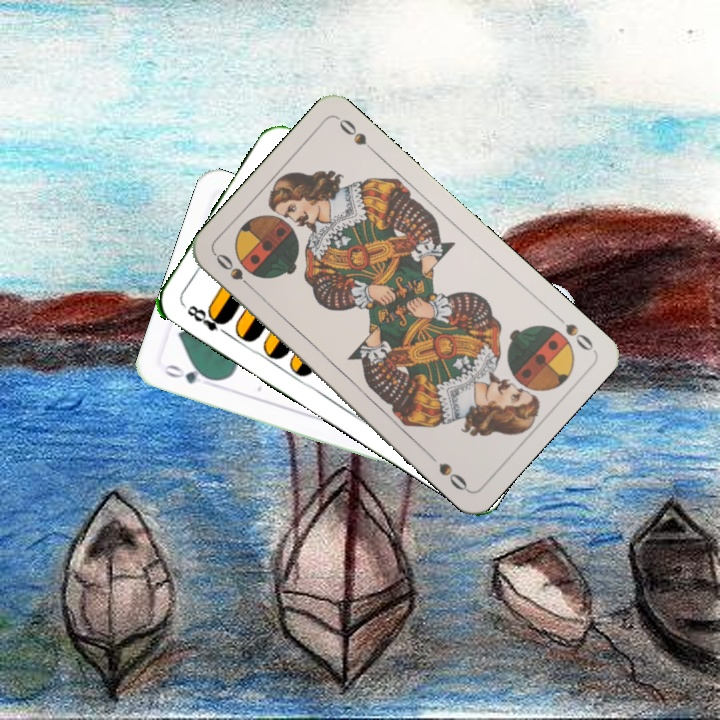E8: (183, 301, 232, 339)
GO: (160, 360, 218, 387)
SO: (211, 249, 259, 295), (550, 309, 596, 354)
